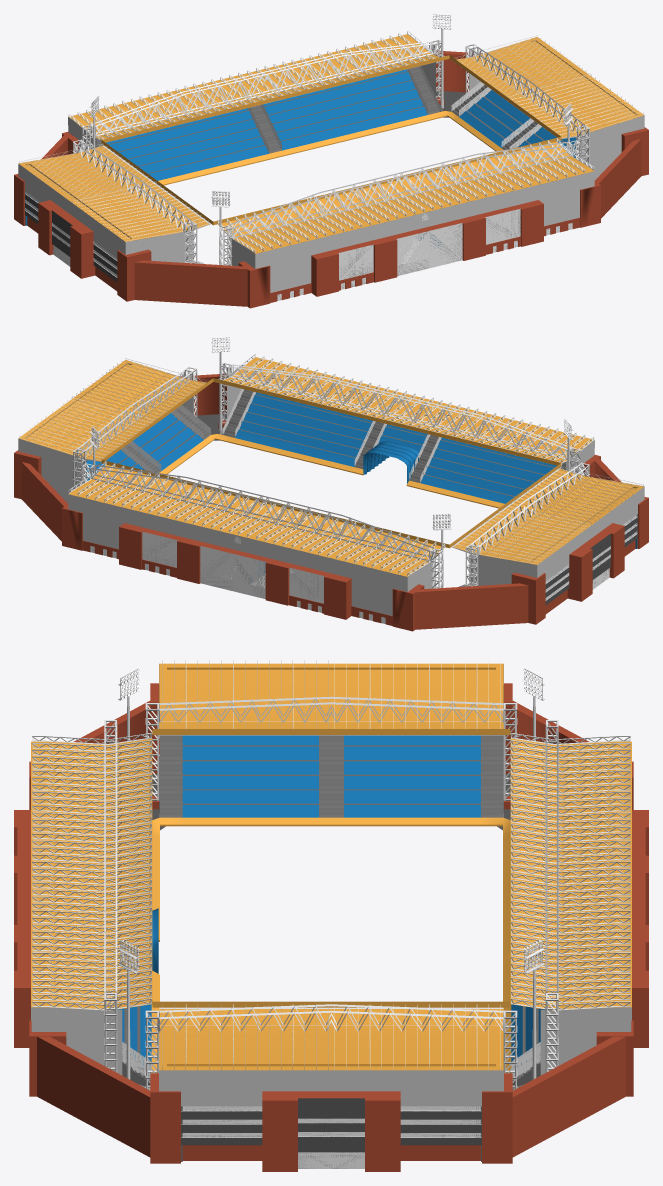
File: stadium.glb
3 views of the same model, one above another, from view 1: azimuth 30°, elevation 25°; view 2: azimuth 150°, elevation 25°; view 3: azimuth 270°, elevation 25° (orthographic). The views are drawn at different scales.
Visible parts, largest first — view 1: stadium.006, stadium, stadium.001, stadium.007; view 2: stadium.006, stadium, stadium.001, stadium.007, stadium.003; view 3: stadium.006, stadium, stadium.001, stadium.007.
Boxes of the visible parts, <box> form: stadium.006: <box>18,31,643,265</box>; stadium: <box>14,37,648,308</box>; stadium.001: <box>25,66,634,263</box>; stadium.007: <box>89,14,573,264</box>; stadium.006: <box>19,354,644,588</box>; stadium: <box>14,360,648,631</box>; stadium.001: <box>28,389,637,586</box>; stadium.007: <box>89,337,573,587</box>; stadium.003: <box>363,441,419,483</box>; stadium.006: <box>31,660,631,1090</box>; stadium: <box>14,664,648,1171</box>; stadium.001: <box>111,735,551,1161</box>; stadium.007: <box>118,668,544,1079</box>.
Size of the model in its own units: 11.55 by 1.9 by 7.28.
